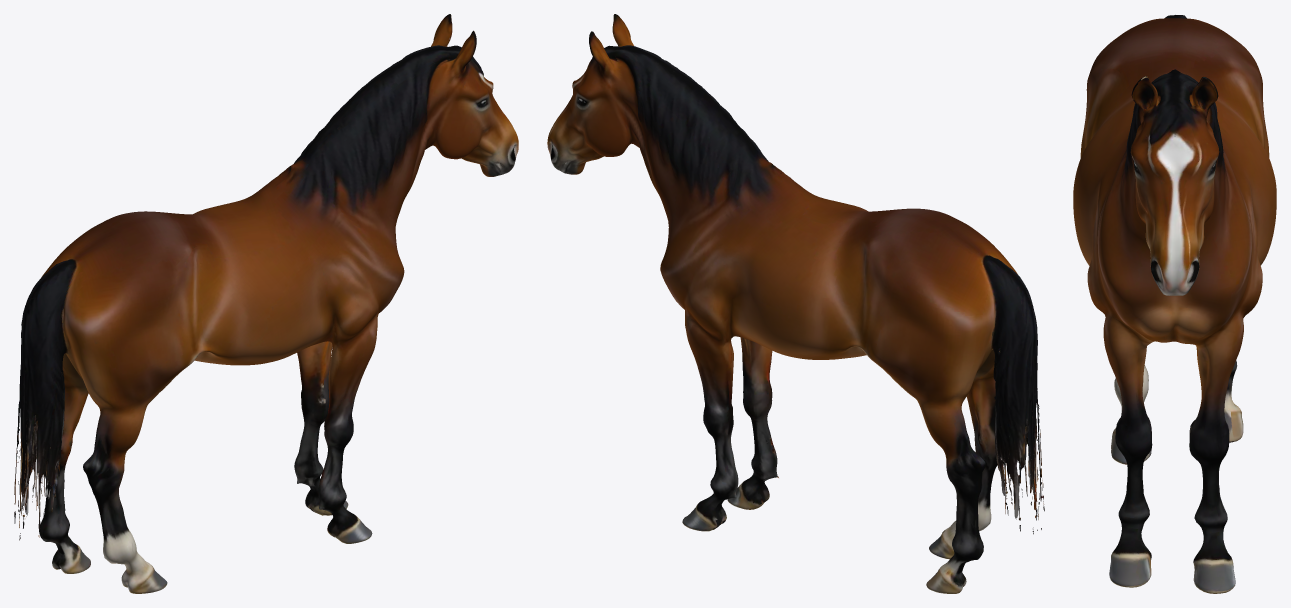
The model's file is Horse_mobile.glb.
The picture shows the model from 3 angles, left to right: view 1: azimuth 30°, elevation 25°; view 2: azimuth 150°, elevation 25°; view 3: azimuth 270°, elevation 25°; orthographic projection. The views are drawn at different scales.
Visible parts, largest first — view 1: tripo_node_464dc770; view 2: tripo_node_464dc770; view 3: tripo_node_464dc770.
Boxes of the visible parts, left/top/right/bottom form: tripo_node_464dc770: left=14, top=14, right=518, bottom=593; tripo_node_464dc770: left=547, top=14, right=1044, bottom=593; tripo_node_464dc770: left=1073, top=15, right=1276, bottom=593.
Bounding box in the file's own units: 0.999 × 0.9036 × 0.2879.
1 material, 1 textured.
